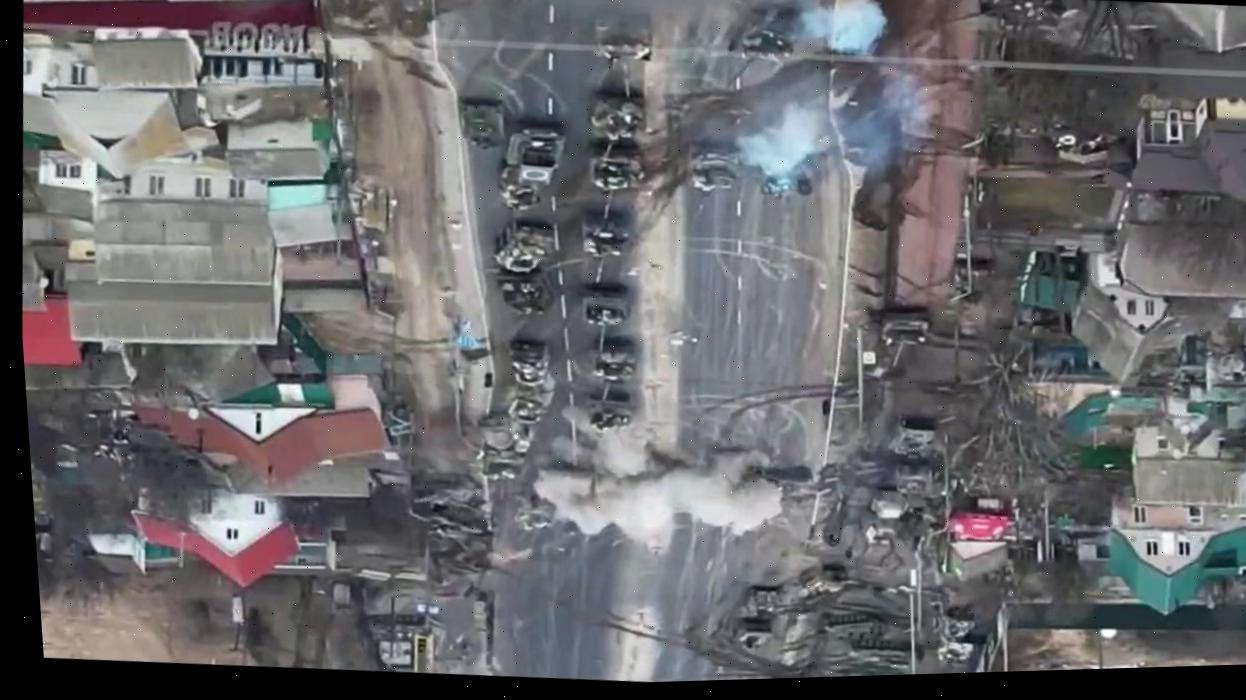rszo: (499, 118, 569, 187)
tank: (708, 0, 811, 80), (477, 208, 559, 278), (679, 139, 747, 223), (578, 4, 662, 72), (583, 90, 650, 172), (583, 146, 649, 224), (484, 261, 560, 325), (754, 141, 820, 210), (740, 453, 818, 509), (576, 286, 632, 363), (576, 210, 633, 285), (404, 461, 487, 511), (586, 335, 639, 407), (876, 305, 932, 372), (450, 94, 509, 155), (364, 605, 446, 648), (503, 489, 567, 543), (499, 335, 559, 392), (815, 608, 889, 654), (727, 578, 791, 631), (842, 636, 923, 676), (472, 407, 539, 454), (501, 377, 559, 429), (419, 510, 489, 551), (882, 415, 941, 463), (943, 257, 998, 307), (796, 557, 853, 605), (487, 169, 545, 215), (885, 460, 942, 501), (474, 448, 529, 488), (722, 615, 777, 653), (921, 606, 976, 644), (931, 633, 979, 674), (865, 487, 914, 526)
